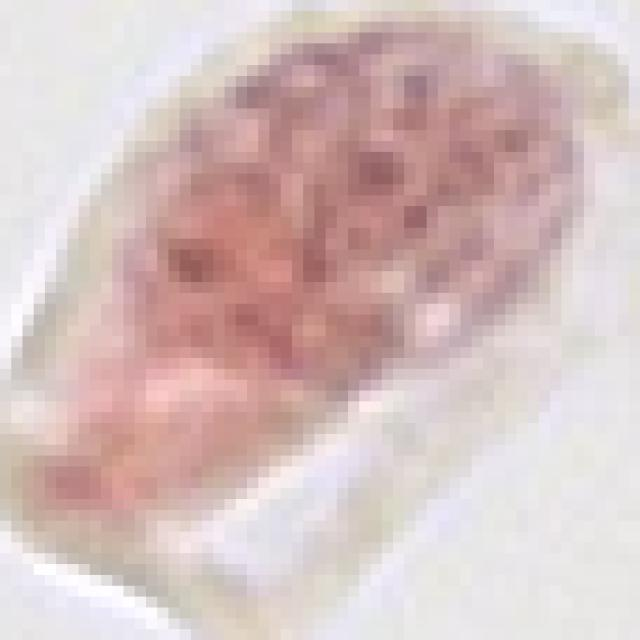cytoplasm: (0, 0, 629, 629)
